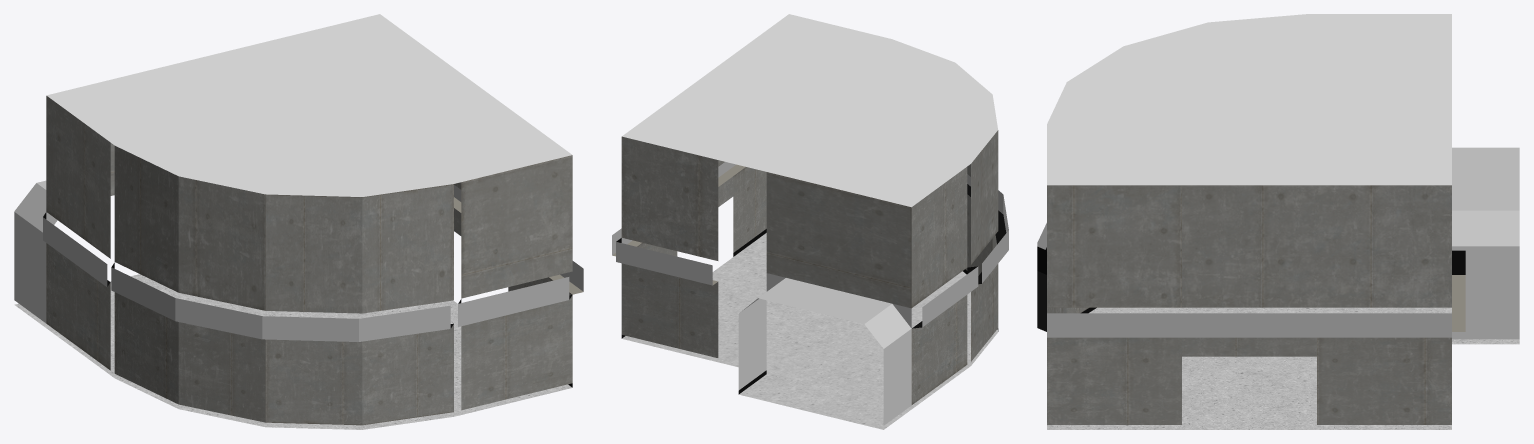
The model's file is Acceuil.fbx.
3 views of the same model, side by side, from view 1: azimuth 30°, elevation 25°; view 2: azimuth 150°, elevation 25°; view 3: azimuth 270°, elevation 25° (orthographic). The views are drawn at different scales.
Parts seen in each view (by area): view 1: Acceuil; view 2: Acceuil; view 3: Acceuil.
Boxes of the visible parts, <box> form: Acceuil: <box>14,14,583,429</box>; Acceuil: <box>612,14,1008,429</box>; Acceuil: <box>1037,14,1519,429</box>.
Size of the model in its own units: 3171 by 2000 by 3571.
